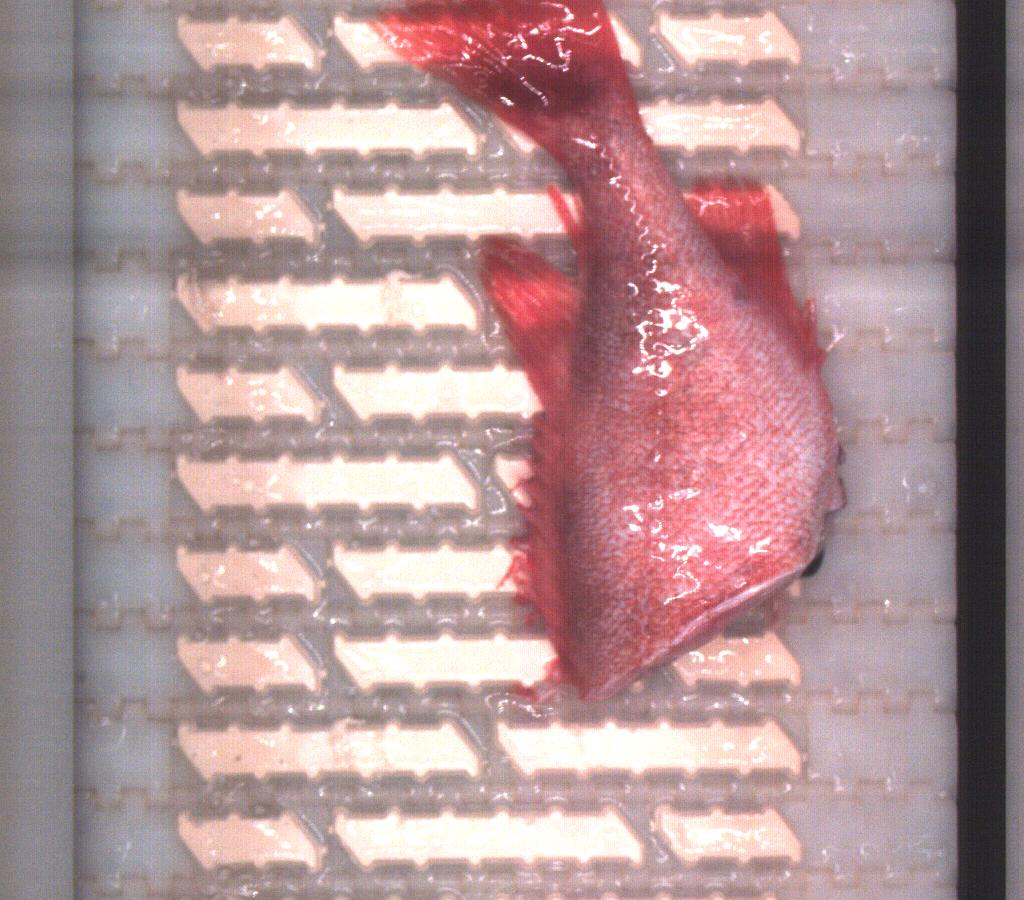Fish: (376, 0, 845, 700)
